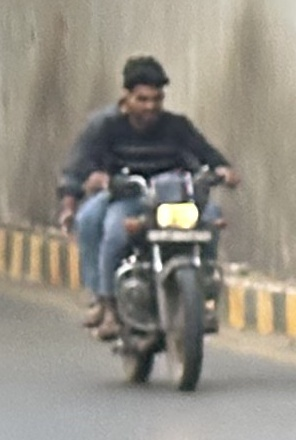BikeWithRider: (51, 41, 254, 400)
NoHelmet: (116, 53, 163, 107), (125, 67, 167, 121)
